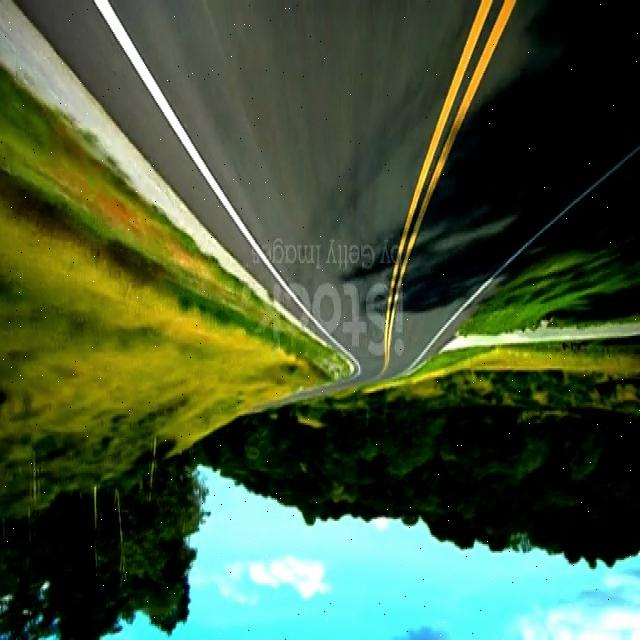lane: (100, 2, 311, 315), (385, 4, 516, 372), (517, 151, 639, 256)
road: (17, 2, 615, 391)
